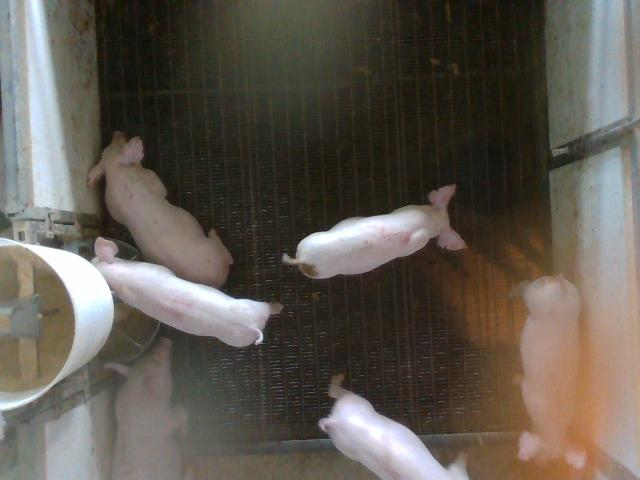pig-4: (92, 238, 281, 347)
pig-5: (282, 186, 465, 278)
